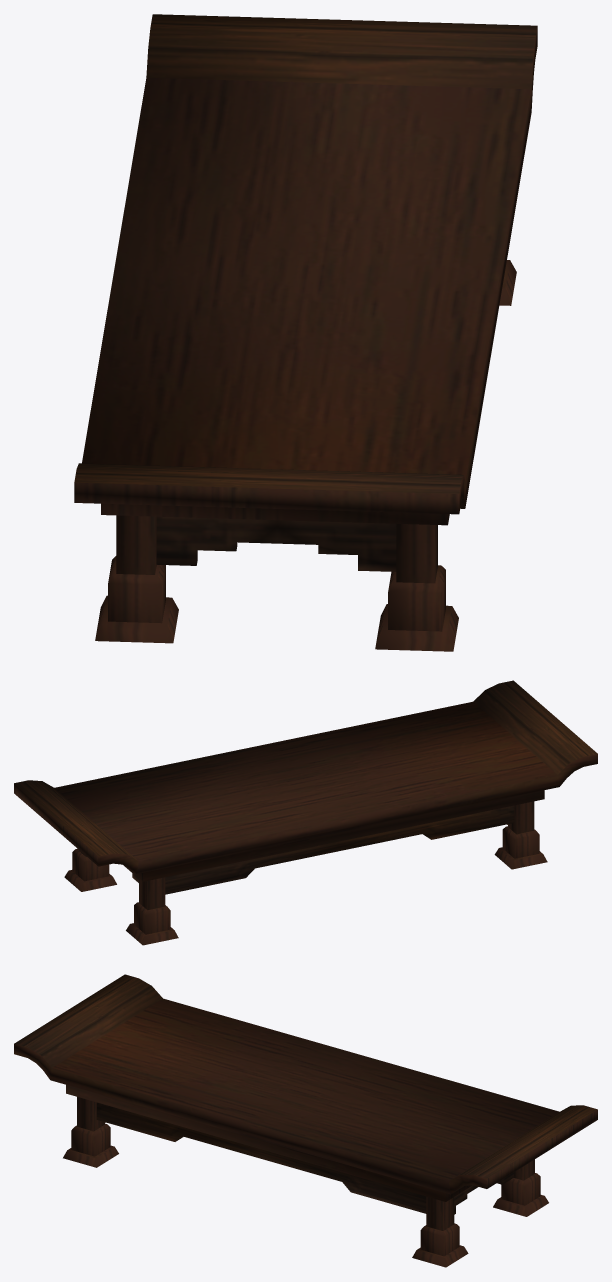
Rendered from daliang_field_a_s05f.fbx.
3 views of the same model, one above another, from view 1: azimuth 30°, elevation 25°; view 2: azimuth 150°, elevation 25°; view 3: azimuth 270°, elevation 25° (orthographic). The views are drawn at different scales.
Visible parts, largest first — view 1: daliang_field_a_s05f; view 2: daliang_field_a_s05f; view 3: daliang_field_a_s05f.
Part boxes in pixels (x1,y1,x2,y2): daliang_field_a_s05f: [74, 14, 537, 651]; daliang_field_a_s05f: [14, 680, 597, 945]; daliang_field_a_s05f: [14, 974, 597, 1267].
Bounding box in the file's own units: 223 × 53 × 270.
